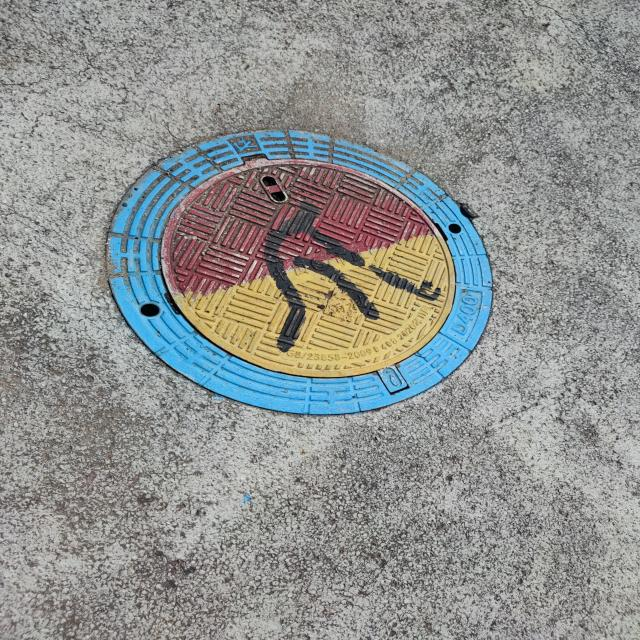Good: (105, 124, 499, 424)
